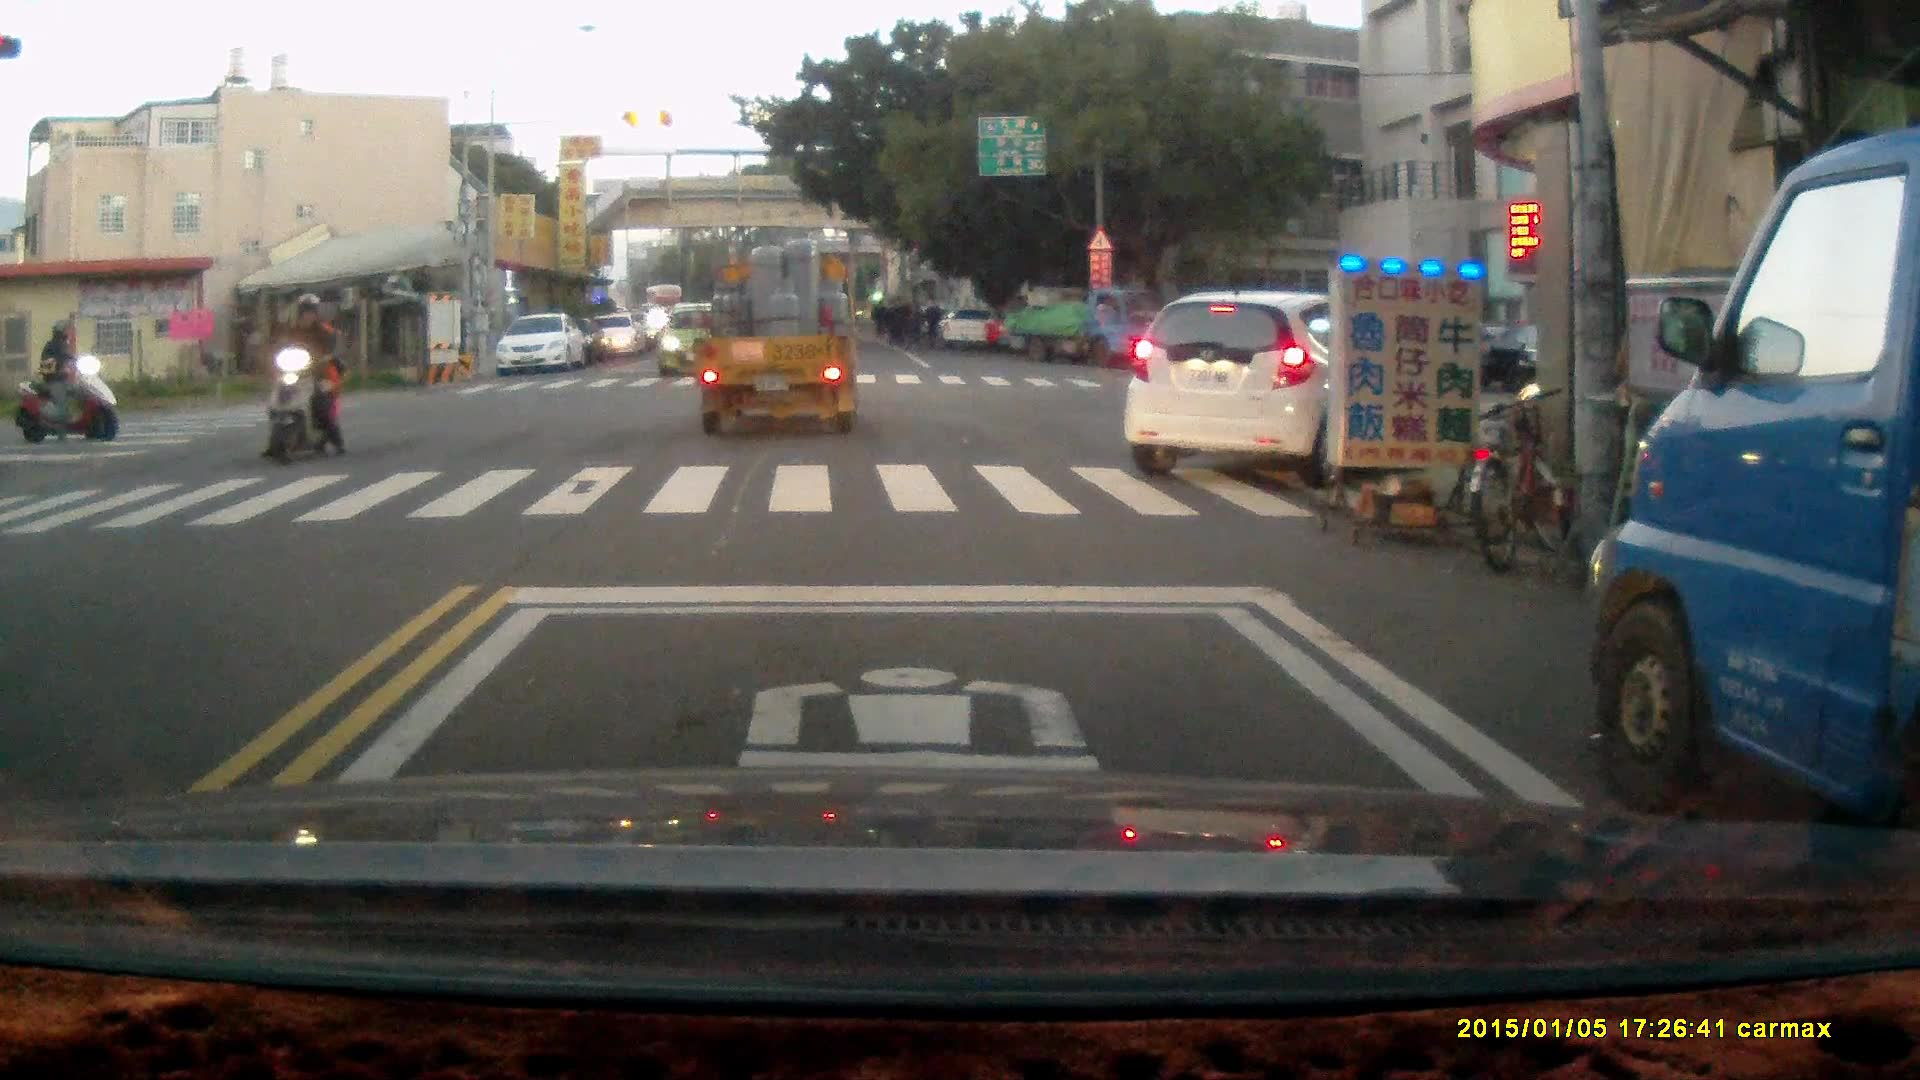rider: (259, 290, 346, 467), (6, 319, 118, 443)
vehicle: (1585, 132, 1920, 877), (1129, 290, 1430, 469), (691, 232, 864, 441), (1002, 284, 1171, 367), (654, 302, 737, 376), (499, 313, 588, 378), (592, 311, 642, 360)
